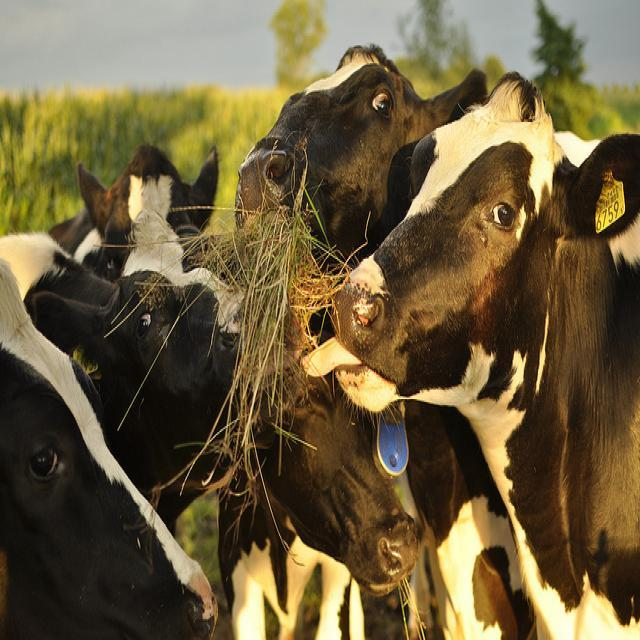cow: (300, 71, 639, 637), (0, 203, 290, 541), (0, 257, 218, 628), (233, 48, 491, 270), (215, 389, 421, 630), (47, 146, 215, 277)
